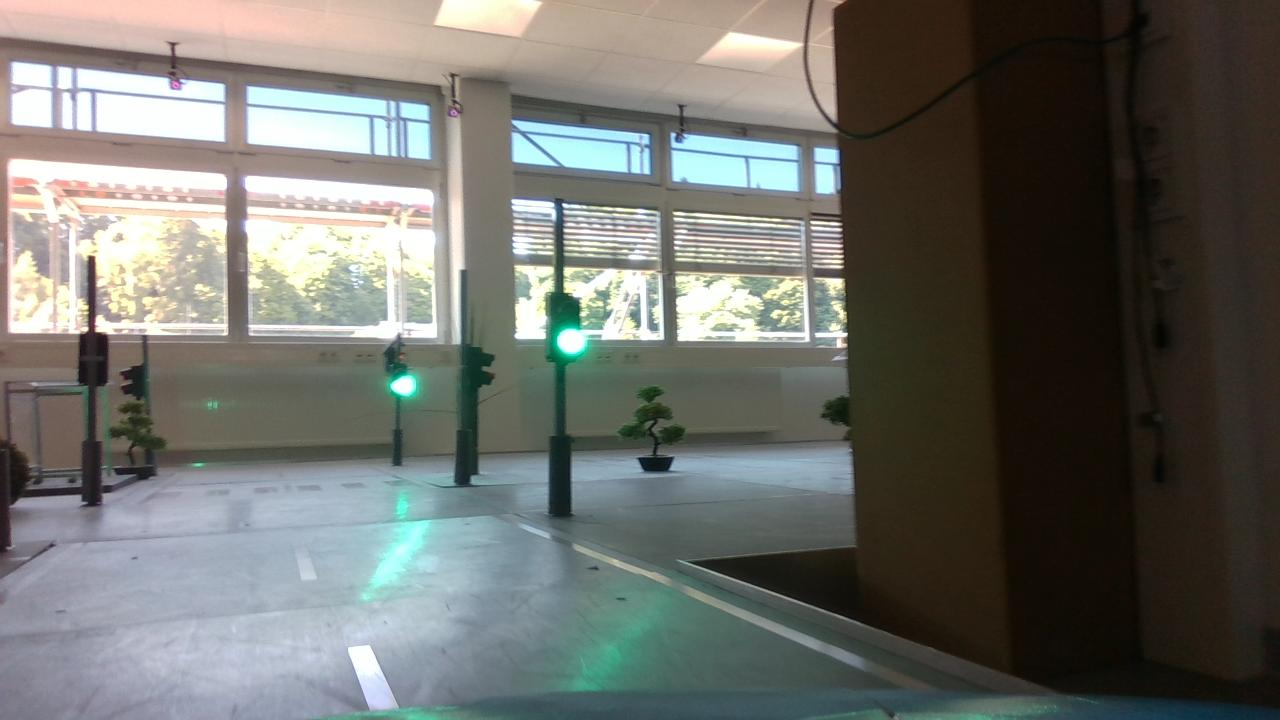traffic_light_green: (533, 280, 597, 377)
